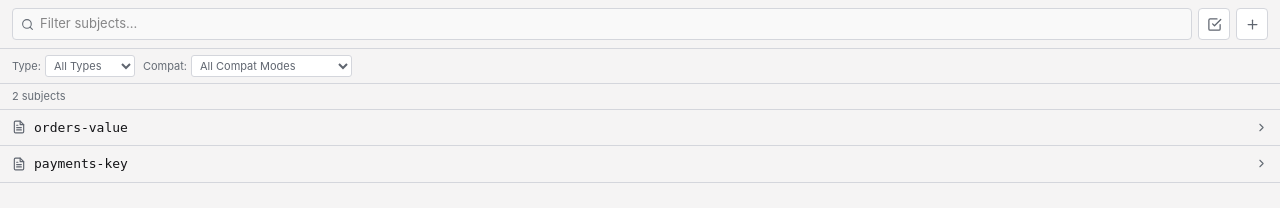
Test case: [@schema-list] search/filter › shows "No results" message when filter matches nothing
Type "zzznomatch" into the field named "filter schema subjects". click: (612, 24)
box: [40,14,1183,34]
Wait 300 ms
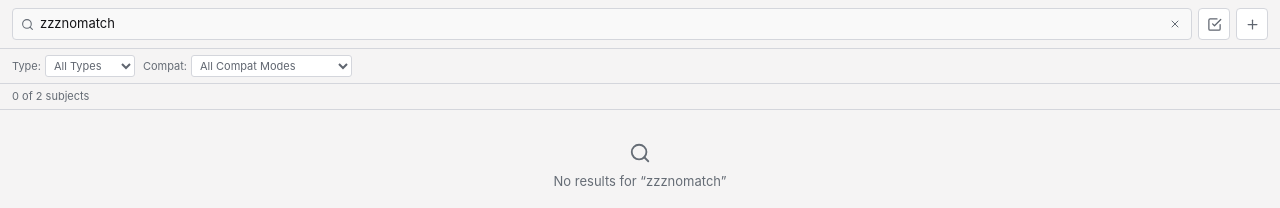
Now the text "No results for “zzznomatch”" is shown, box [554,172,726,191]
